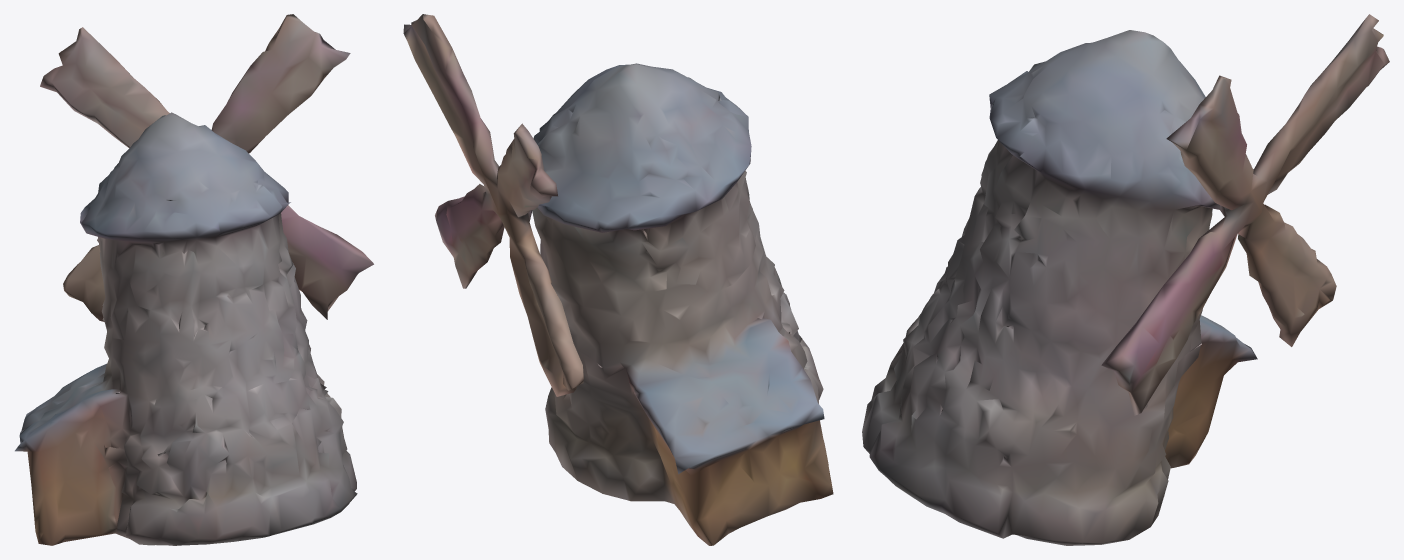
The model's file is moinho.glb.
3 renders of one model, left to right at view 1: azimuth 30°, elevation 25°; view 2: azimuth 150°, elevation 25°; view 3: azimuth 270°, elevation 25°, orthographic. The views are drawn at different scales.
Bounding box in the file's own units: 0.8383 × 0.9723 × 0.874.
